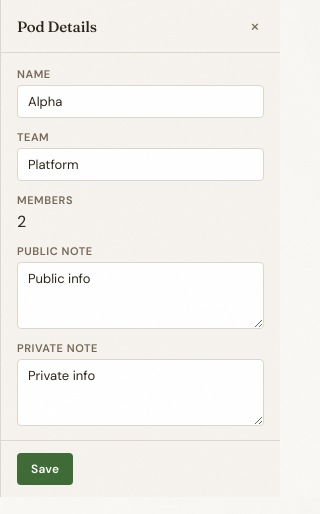
PodSidebar — branch coverage › save button status text › shows "Saved!" after successful save
Step 1. Replace the text in the field showing "Alpha" below "Name" with "Renamed" → (140, 102), box 17,85 -> 264,118
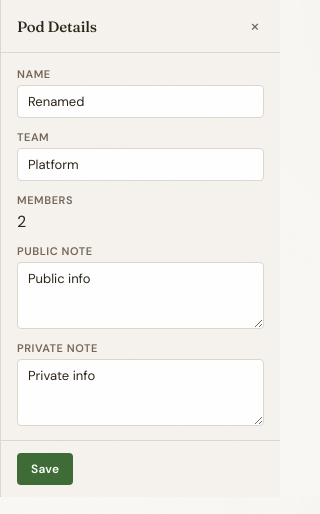
Step 2. Click the button "Save" → (45, 469), box 17,453 -> 73,485
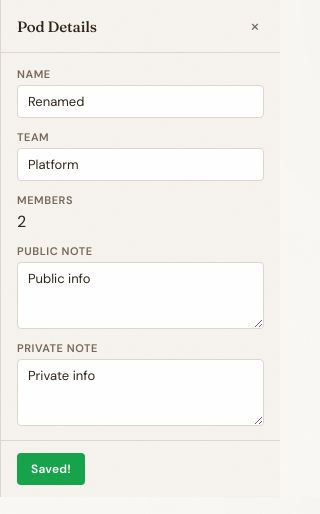
Check: the button "Saved!" is shown, box 17,453 -> 85,485
